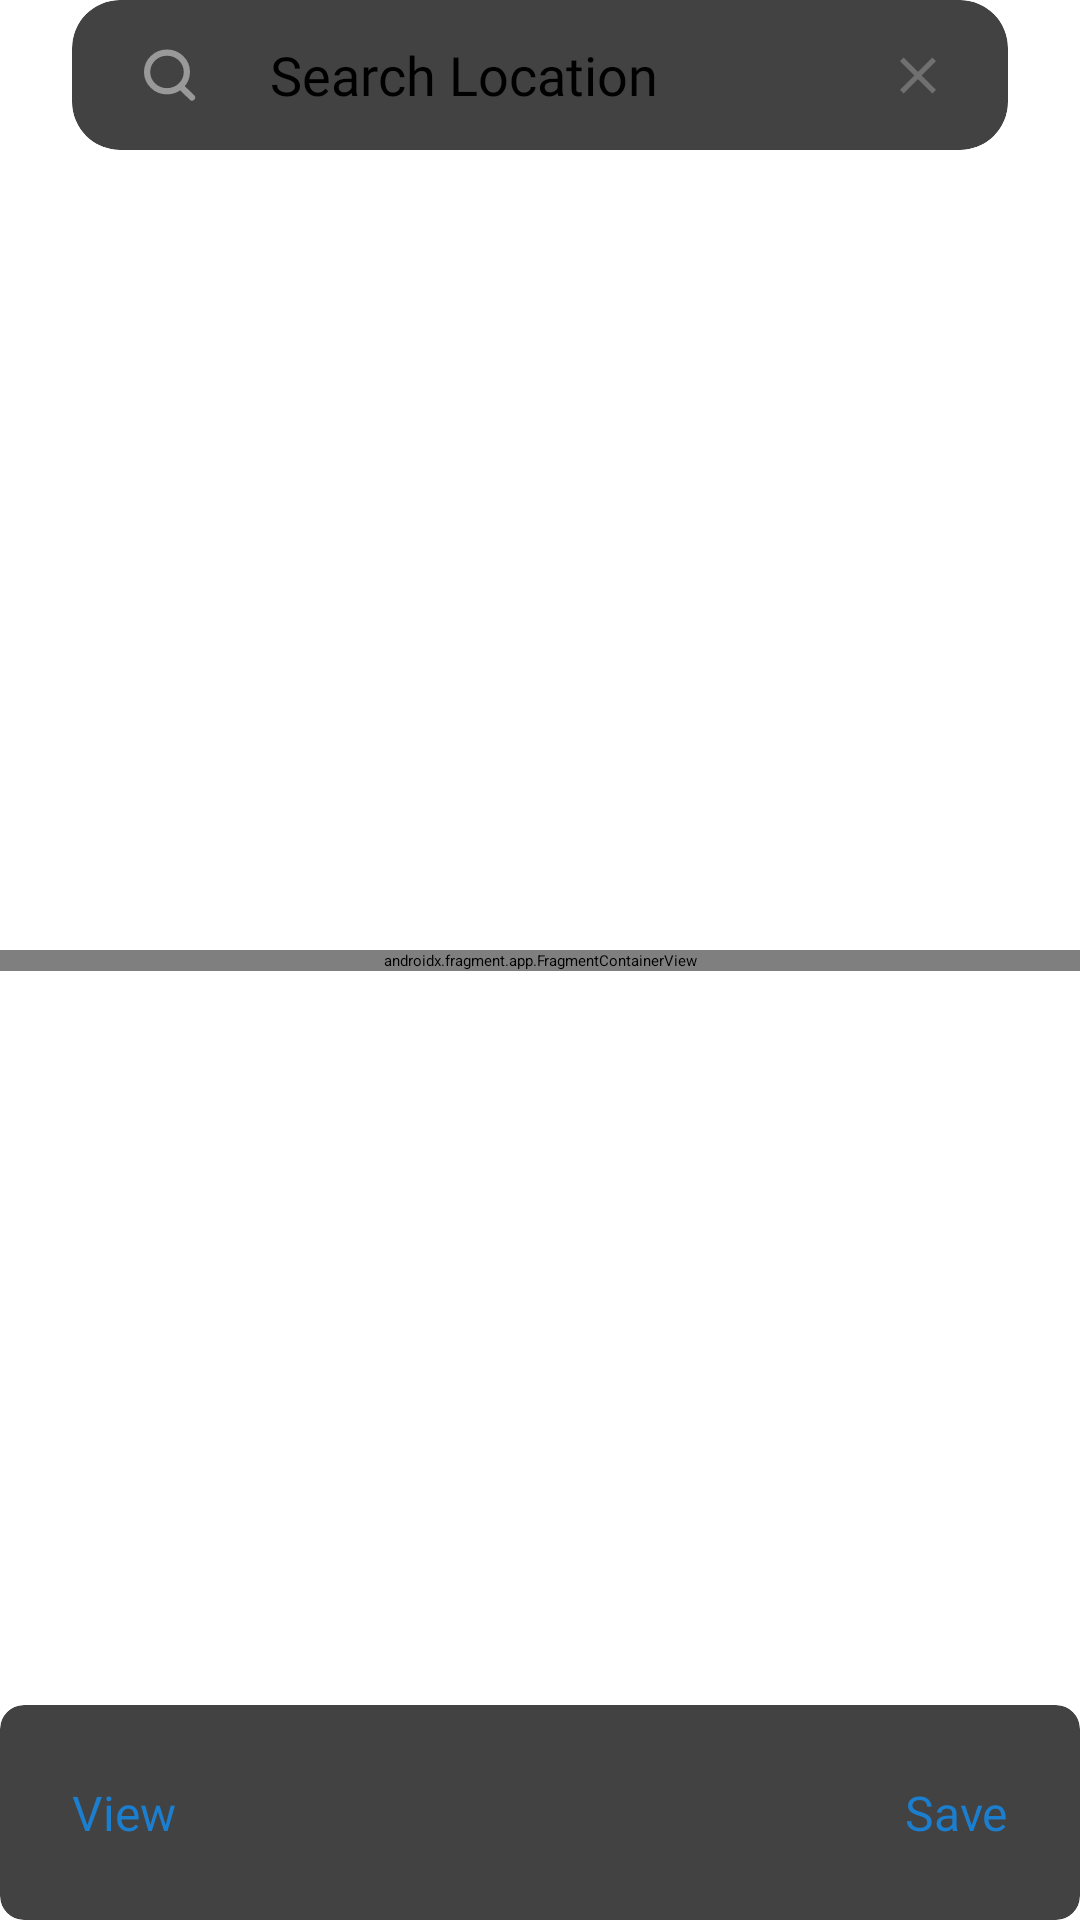

Where to tap for icons on this 1080x1920 app screen, as (x,y):
icnclose: (918,75)
